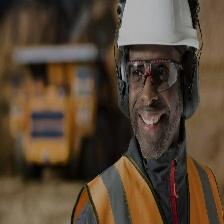Person: (68, 1, 224, 224)
helmet: (113, 1, 203, 54)
vest: (69, 141, 224, 224)
